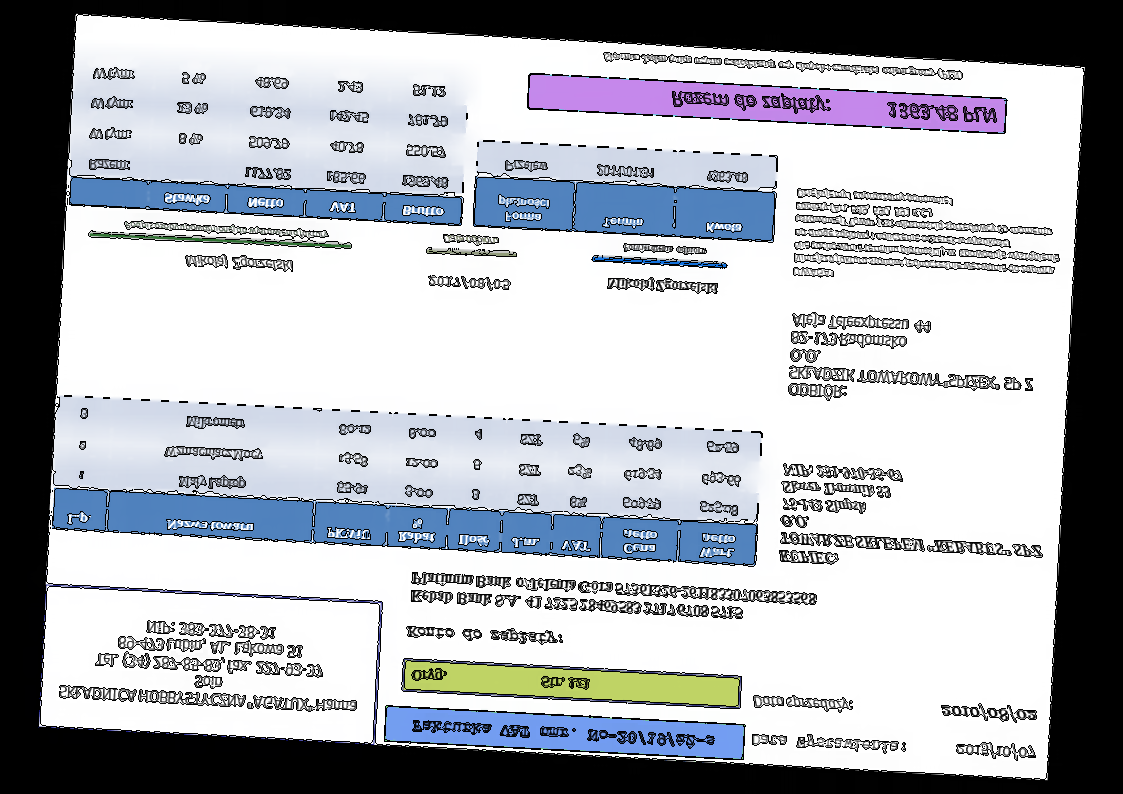Table: (50, 393, 764, 567), (66, 54, 472, 227), (471, 137, 779, 244)
TextBox: (775, 459, 1054, 580), (56, 610, 363, 717), (790, 185, 1064, 291), (785, 307, 1040, 415), (407, 569, 819, 627), (668, 85, 999, 128), (601, 49, 966, 84), (409, 716, 718, 752), (409, 664, 593, 694), (122, 219, 332, 243), (403, 621, 567, 650), (749, 729, 908, 757), (603, 273, 720, 298), (183, 251, 298, 275), (938, 699, 1039, 726), (750, 691, 854, 715), (424, 270, 512, 295), (953, 738, 1038, 763), (619, 241, 708, 259), (440, 231, 502, 249)
